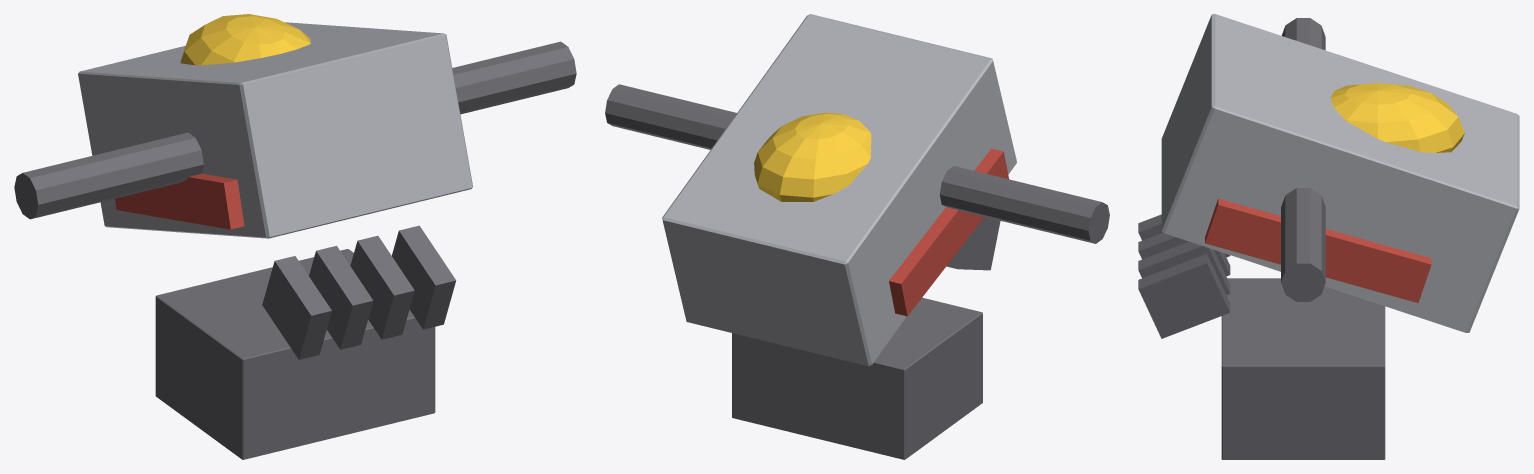
The model's file is aero-wedge.glb.
3 renders of one model, left to right at view 1: azimuth 30°, elevation 25°; view 2: azimuth 150°, elevation 25°; view 3: azimuth 270°, elevation 25°, orthographic. The views are drawn at different scales.
Visible parts, largest first — view 1: wedge, pelvis, yoke, cockpit, strake_r, diff0, diff3, diff1, diff2; view 2: wedge, pelvis, yoke, cockpit, strake_r, diff0; view 3: wedge, pelvis, strake_l, cockpit, yoke, diff3, diff2, diff1, diff0.
Boxes of the visible parts, x1,y1,x2,y2 form: wedge: (78,22,472,238); pelvis: (155,249,435,459); yoke: (14,41,576,219); cockpit: (180,14,310,65); strake_r: (115,173,244,229); diff0: (262,256,331,359); diff3: (392,225,456,329); diff1: (309,245,373,349); diff2: (350,235,414,339); wedge: (662,14,1016,366); pelvis: (732,297,982,459); yoke: (605,84,1109,243); cockpit: (754,112,871,201); strake_r: (889,148,1008,316); diff0: (946,217,1000,270); wedge: (1161,14,1519,332); pelvis: (1221,278,1385,459); strake_l: (1205,198,1431,302); cockpit: (1330,83,1464,152); yoke: (1281,18,1325,301); diff3: (1138,253,1230,338); diff2: (1138,241,1230,295); diff1: (1138,232,1230,276); diff0: (1138,214,1230,257).
Size of the model in its own units: 0.78 by 0.5279 by 0.5119.
